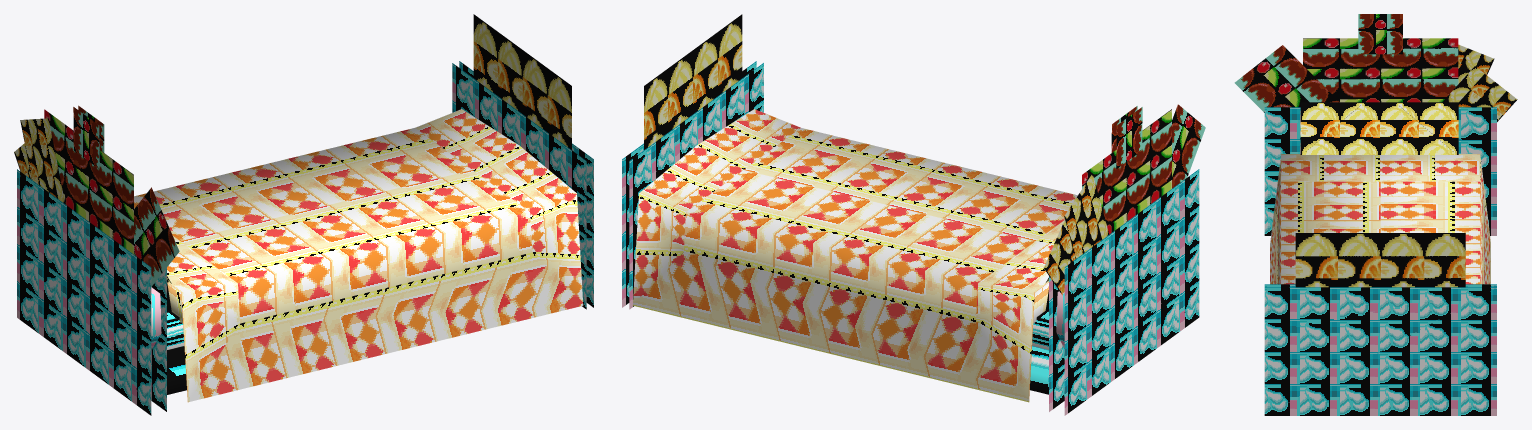
The model's file is 3750dl_alamo.gltf.
The picture shows the model from 3 angles, left to right: view 1: azimuth 30°, elevation 25°; view 2: azimuth 150°, elevation 25°; view 3: azimuth 270°, elevation 25°; orthographic projection. The views are drawn at different scales.
Parts seen in each view (by area): view 1: 3750dl_alamo; view 2: 3750dl_alamo; view 3: 3750dl_alamo.
Boxes of the visible parts, bbox=[...] form: 3750dl_alamo: bbox=[14, 14, 593, 415]; 3750dl_alamo: bbox=[622, 14, 1205, 415]; 3750dl_alamo: bbox=[1234, 14, 1517, 415].
Bounding box in the file's own units: 1.93 × 1.04 × 1.24.
Materials: 4 (4 with a texture image).
